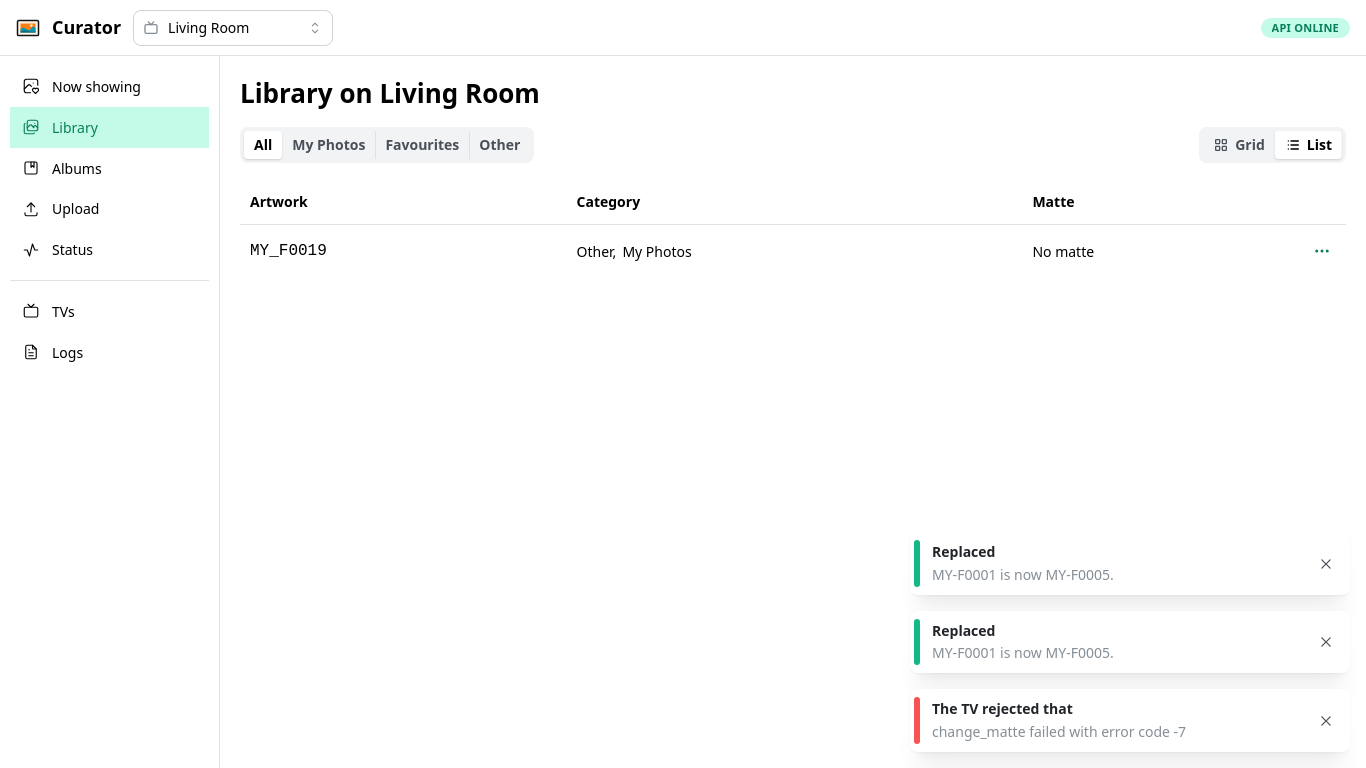
library › labels MY-C0008 Other and shows every category, offering delete for an upload listed outside My Photos
This screenshot has width=1366, height=768.
Expected: the radio button labelled "Other" is shown, [479, 135, 520, 154]
Click the button named "Actions for MY_F0019".
click(1322, 252)  # box [1308, 238, 1336, 266]
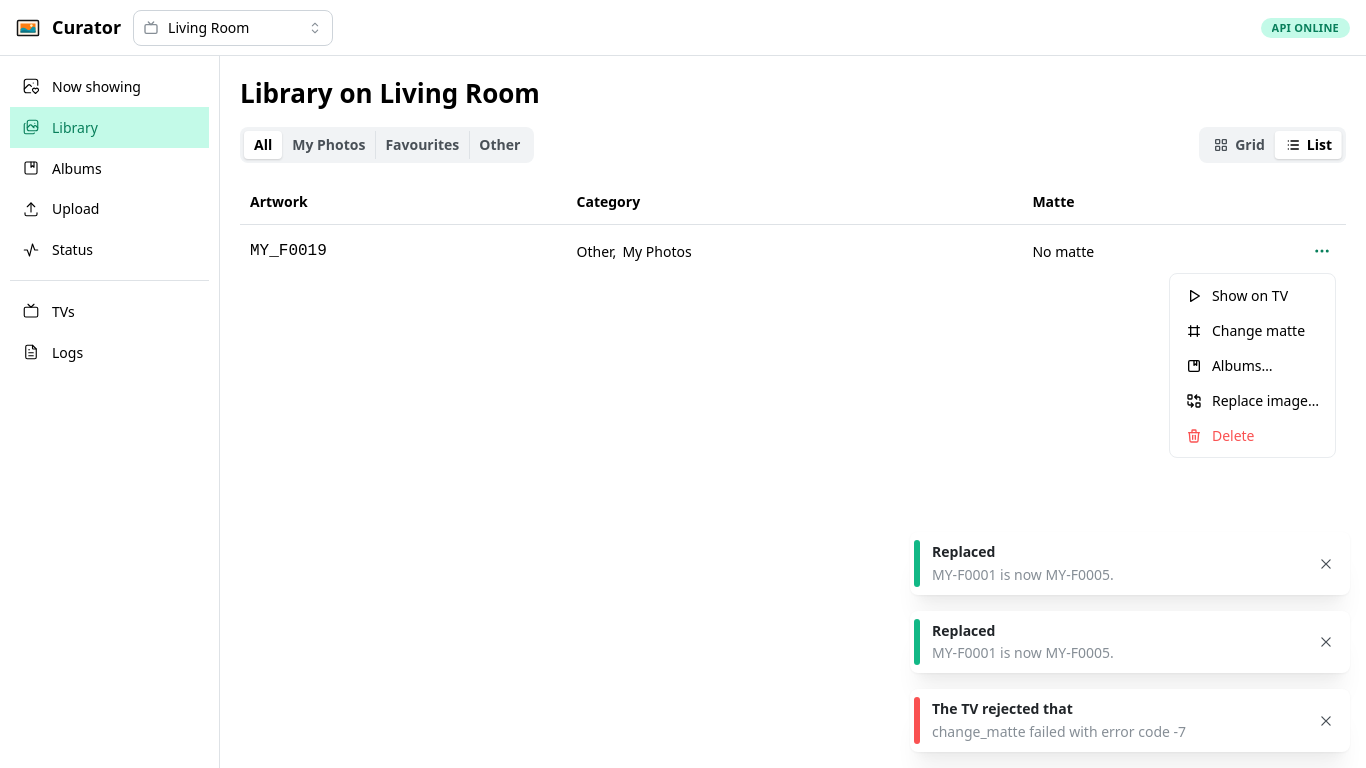
Expected: the menu item "Delete" is shown, [1174, 418, 1331, 454]
